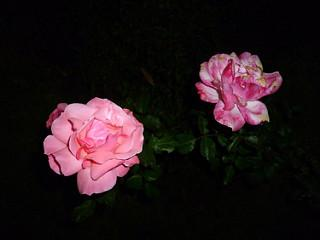Rose: (35, 93, 146, 196), (195, 52, 286, 132)
